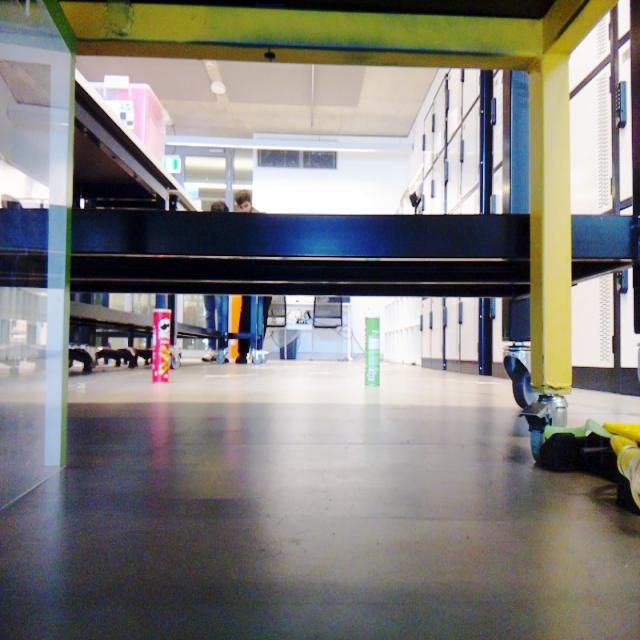greenpringles: (359, 310, 387, 393)
redpringles: (147, 298, 175, 389)
